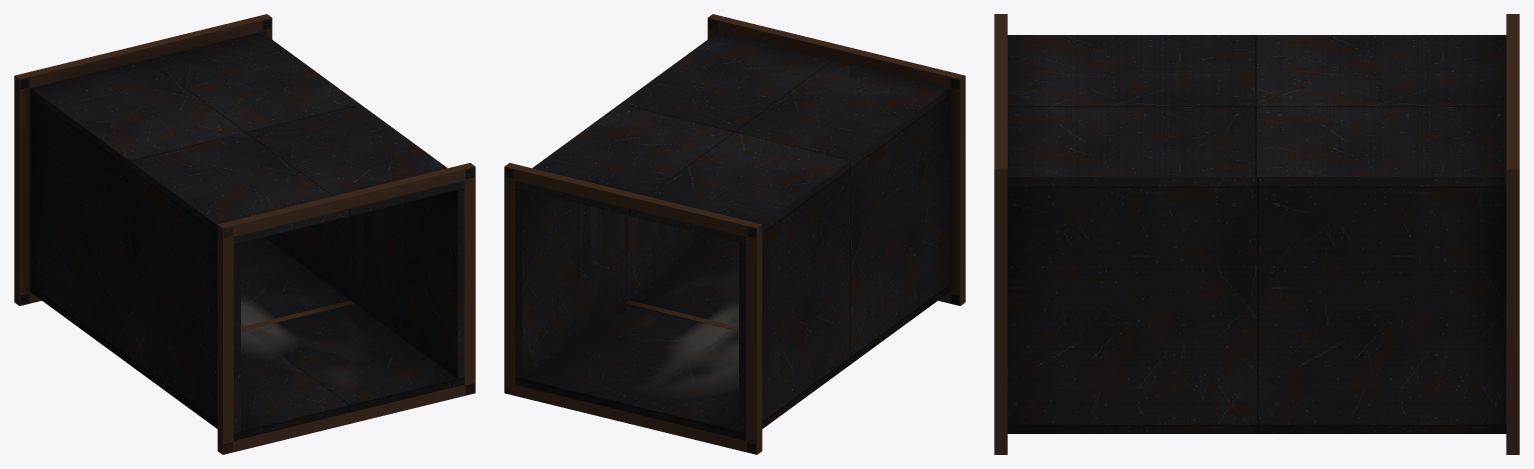
Rendered from duct_straight.glb.
3 renders of one model, left to right at view 1: azimuth 30°, elevation 25°; view 2: azimuth 150°, elevation 25°; view 3: azimuth 270°, elevation 25°, orthographic. The views are drawn at different scales.
Parts seen in each view (by area): view 1: body, decals; view 2: body, decals; view 3: body.
Boxes of the visible parts, x1,y1,x2,y2 form: body: (14,14,475,454); decals: (241,214,381,356); body: (504,14,965,454); decals: (656,302,738,392); body: (994,14,1519,454).
Size of what is drawn, in the model's own units: 1.4 by 1.2 by 2.
5 materials, 4 textured.
